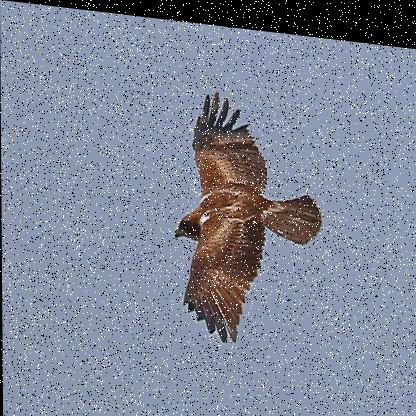Burung: (162, 82, 322, 348)
